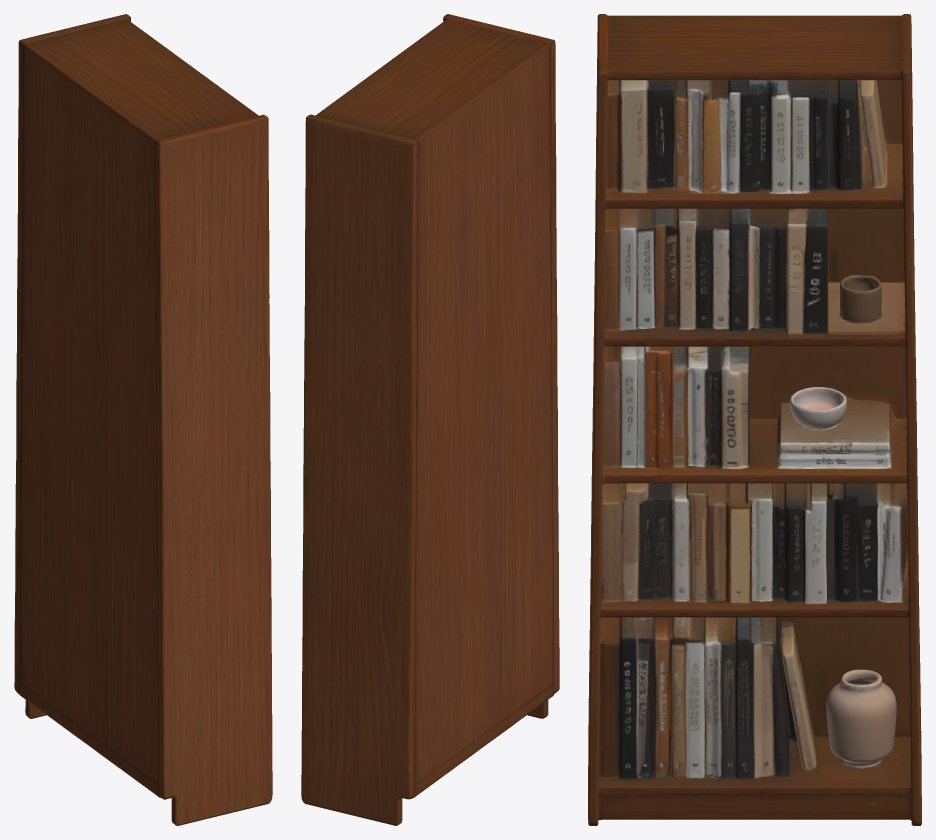
Rendered from books_stand.glb.
The picture shows the model from 3 angles, left to right: view 1: azimuth 30°, elevation 25°; view 2: azimuth 150°, elevation 25°; view 3: azimuth 270°, elevation 25°; orthographic projection. The views are drawn at different scales.
Parts seen in each view (by area): view 1: tripo_node_bae94726-23a4-4cf4-bdd3-97b75730e2d9; view 2: tripo_node_bae94726-23a4-4cf4-bdd3-97b75730e2d9; view 3: tripo_node_bae94726-23a4-4cf4-bdd3-97b75730e2d9.
Part boxes in pixels (x1,y1,x2,y2): tripo_node_bae94726-23a4-4cf4-bdd3-97b75730e2d9: [14, 14, 272, 825]; tripo_node_bae94726-23a4-4cf4-bdd3-97b75730e2d9: [301, 14, 559, 825]; tripo_node_bae94726-23a4-4cf4-bdd3-97b75730e2d9: [588, 14, 921, 825].
Size of the model in its own units: 0.1678 by 1 by 0.4001.
Materials: 1 (1 with a texture image).
